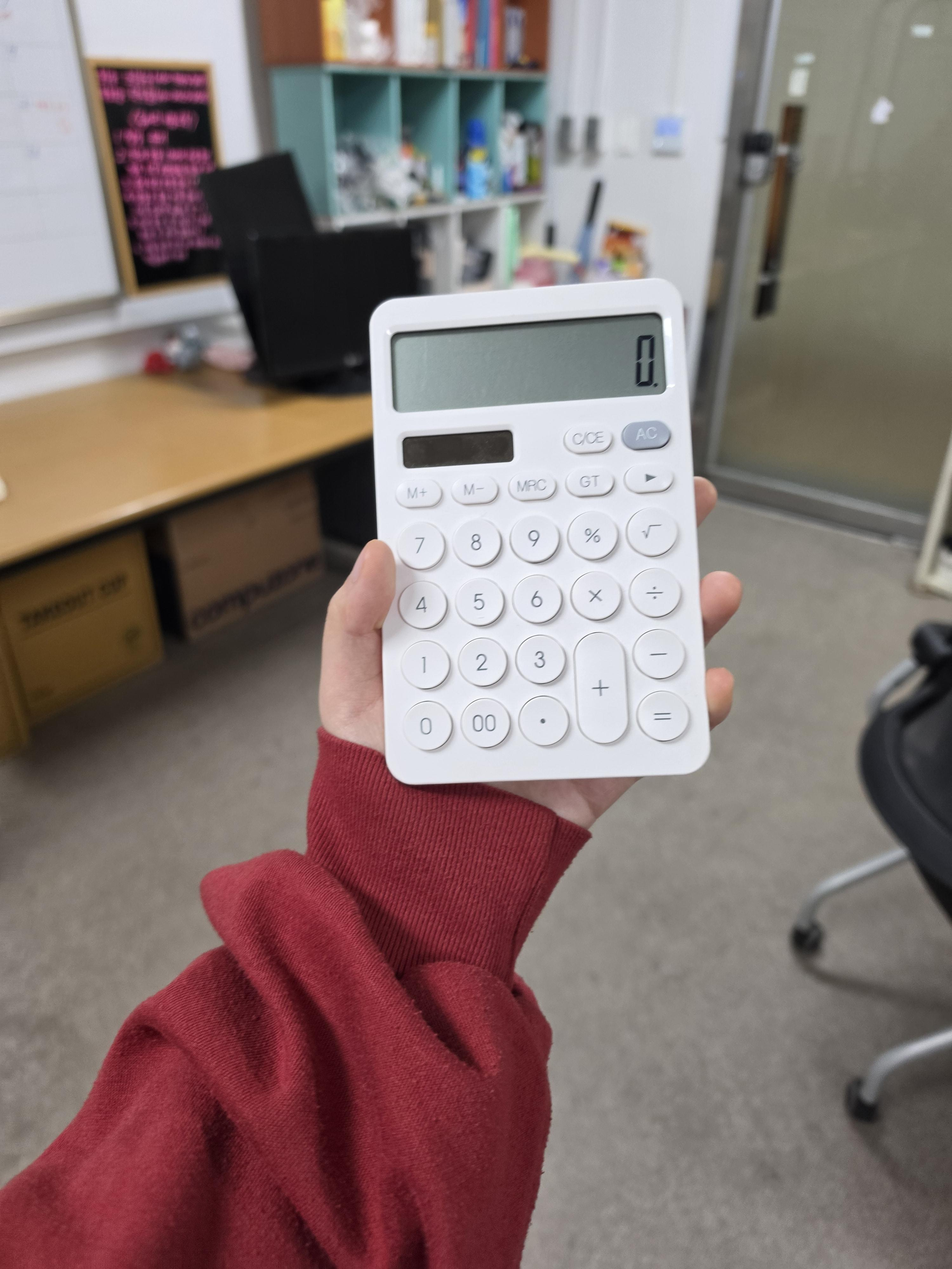calculator: (369, 278, 712, 786)
